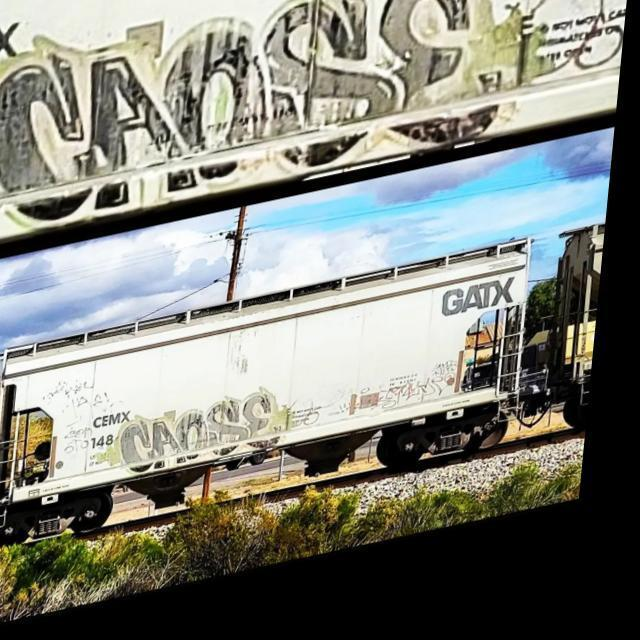-: (0, 0, 590, 255), (126, 396, 306, 488), (442, 296, 532, 348), (0, 14, 31, 140), (91, 413, 143, 461)
